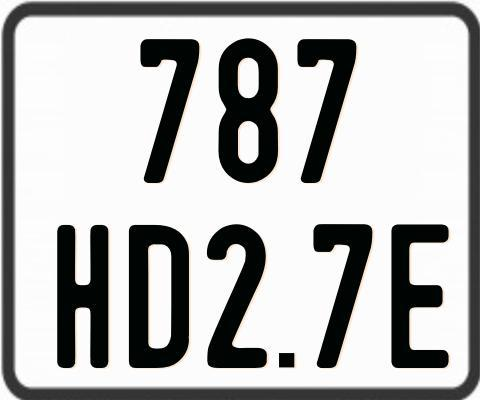2: (206, 222, 269, 366)
7: (297, 37, 362, 187), (137, 38, 201, 185), (311, 222, 371, 371)
8: (215, 35, 279, 184)
D: (126, 224, 192, 369)
E: (391, 223, 454, 367)
H: (54, 224, 105, 370)
